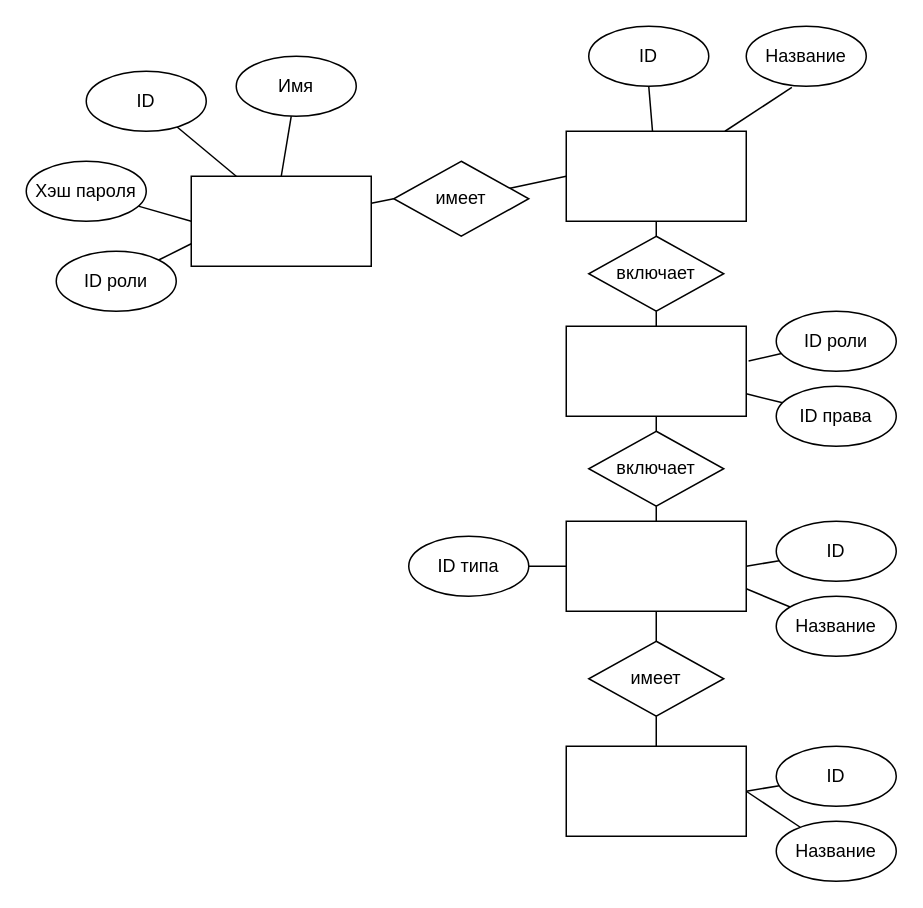
Image size: 923x908. Some labels were removed from this diagram. Each missing label, with the centre of its shape:
Доступные права: the point at 655,370
Пользователь: the point at 280,220
Право: the point at 655,565
Роль: the point at 655,175
Тип права: the point at 655,790
